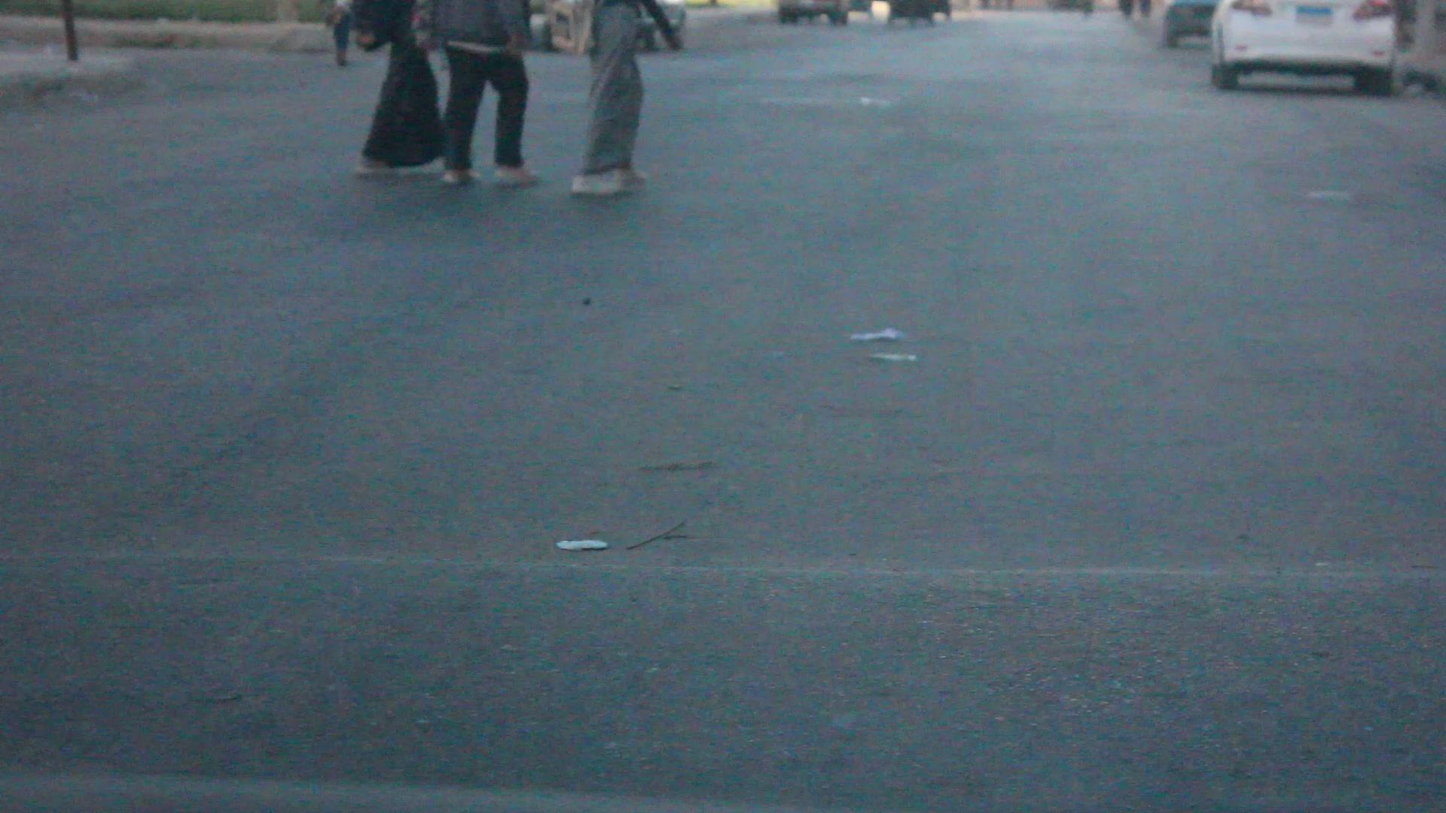Bump: (6, 548, 1446, 807)
